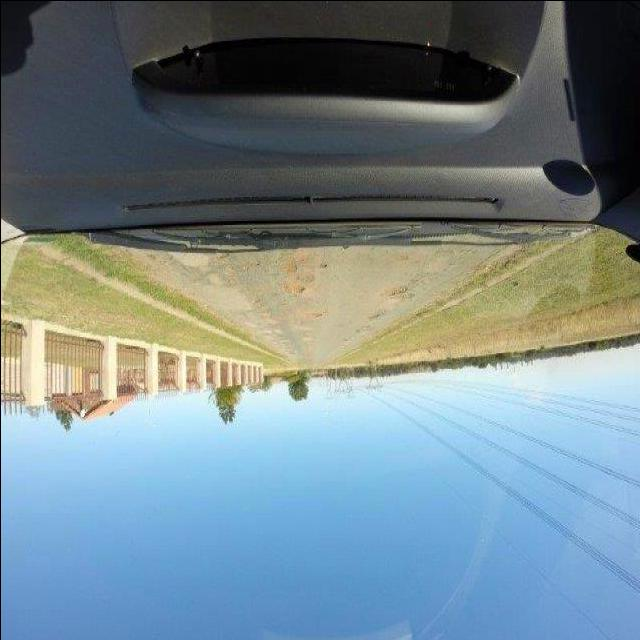lubang: (277, 252, 317, 302), (209, 252, 244, 294), (295, 304, 325, 324), (387, 281, 414, 303), (248, 290, 268, 314), (384, 248, 410, 264), (298, 330, 316, 346), (364, 309, 384, 323), (314, 258, 330, 274)
